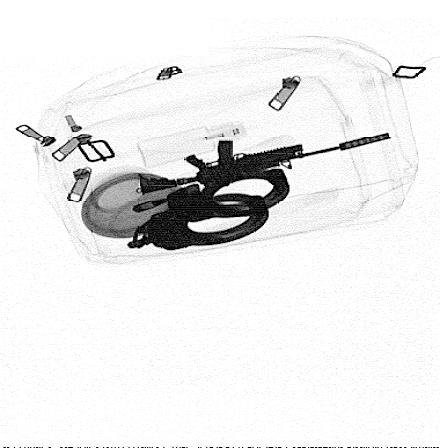Bullet: (132, 199, 168, 214)
Gun: (137, 132, 392, 195)
HandCuffs: (126, 167, 292, 250)
